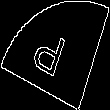P_SW: (34, 25, 76, 85)
